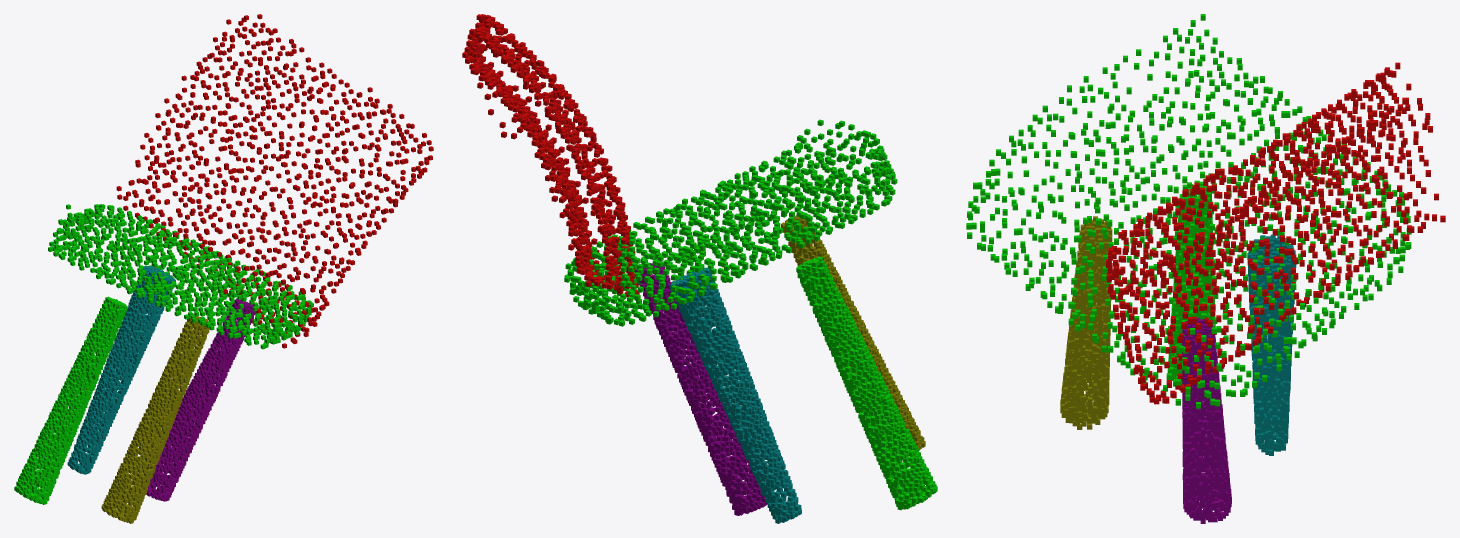
Rendered from data.png.obj.
The picture shows the model from 3 angles, left to right: view 1: azimuth 30°, elevation 25°; view 2: azimuth 150°, elevation 25°; view 3: azimuth 270°, elevation 25°; orthographic projection. The views are drawn at different scales.
Size of the model in its own units: 1.23 by 1.2 by 0.9415.
